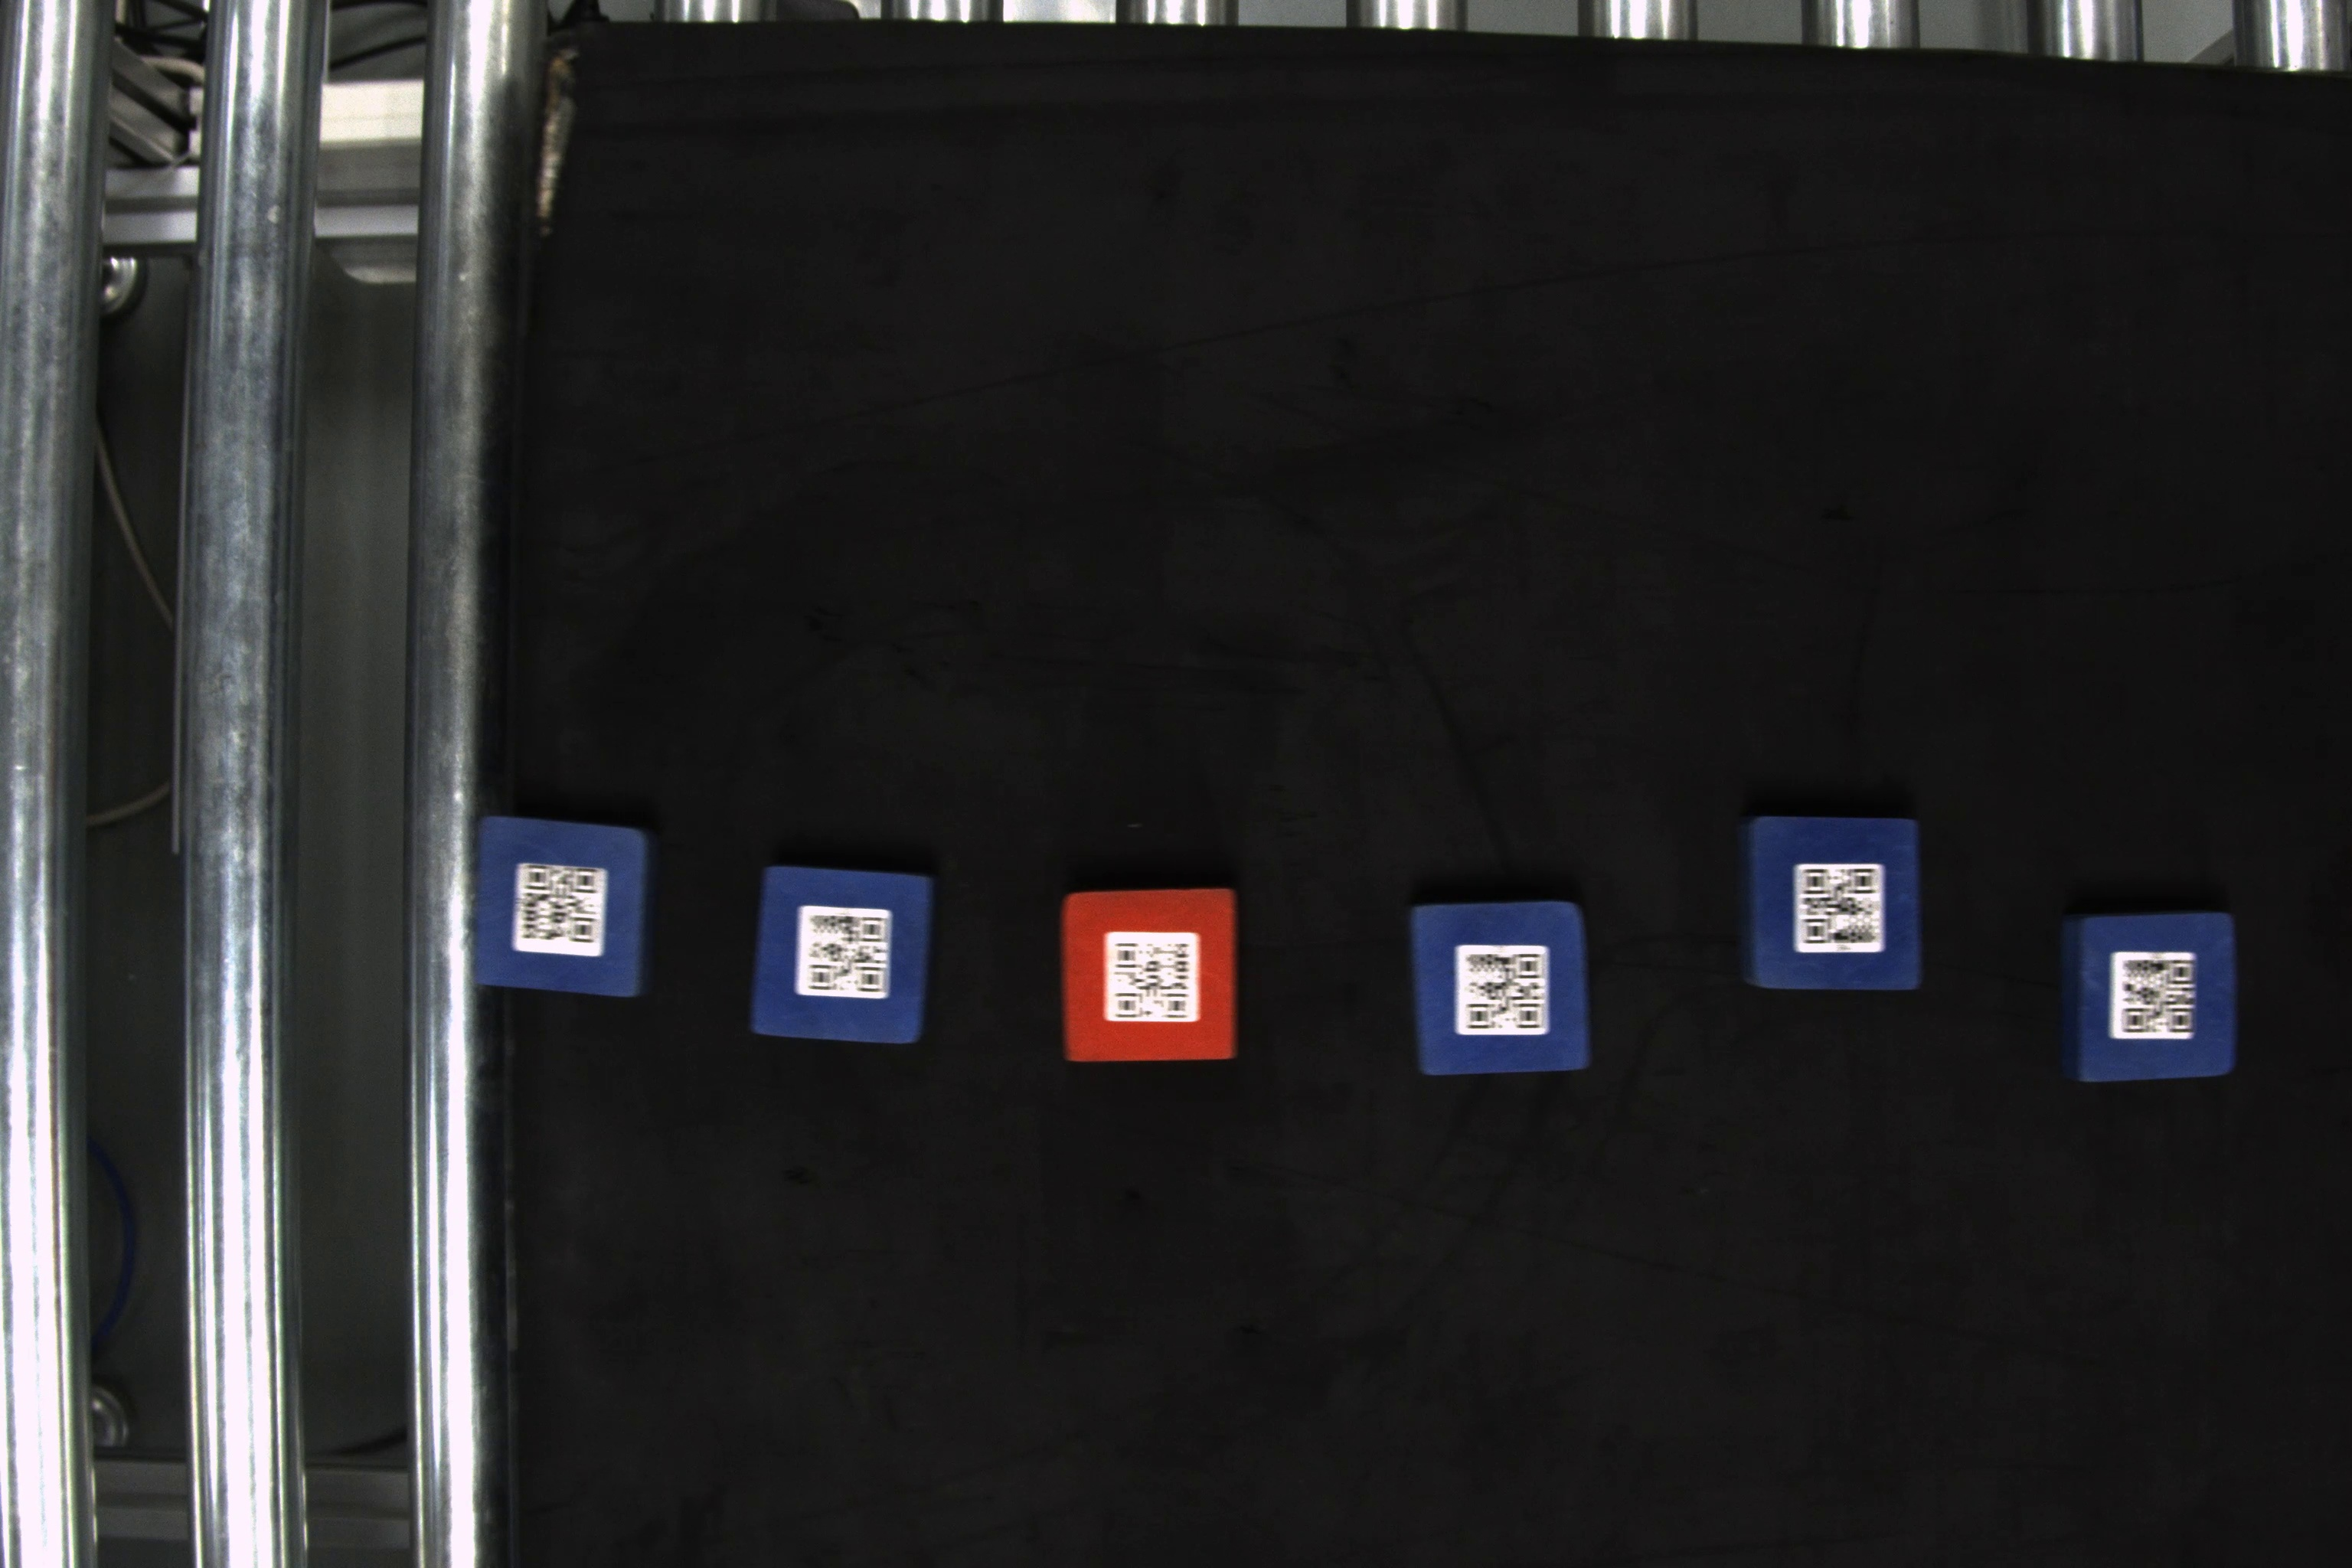wood: (1736, 808, 1928, 994), (1403, 896, 1598, 1078), (476, 814, 651, 1003), (752, 864, 938, 1041), (1055, 891, 1241, 1066), (2061, 912, 2247, 1083)
